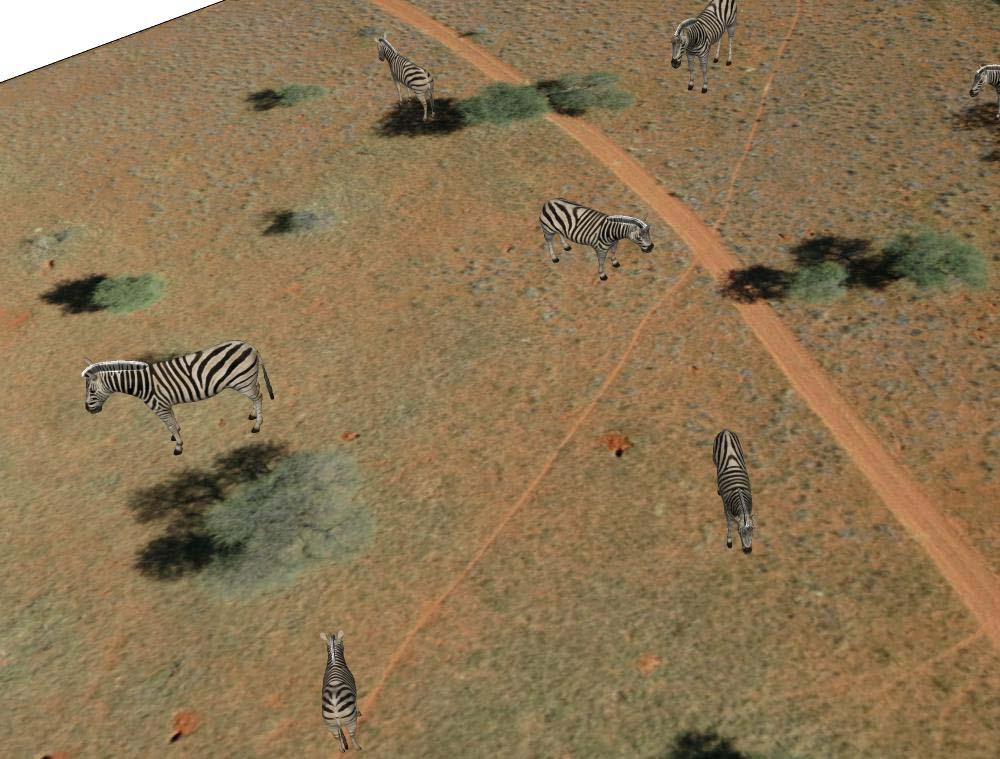zebra: (80, 342, 275, 456), (536, 191, 653, 285), (369, 27, 439, 131), (710, 423, 763, 559), (313, 623, 364, 759), (669, 2, 739, 97), (967, 62, 1000, 107)
